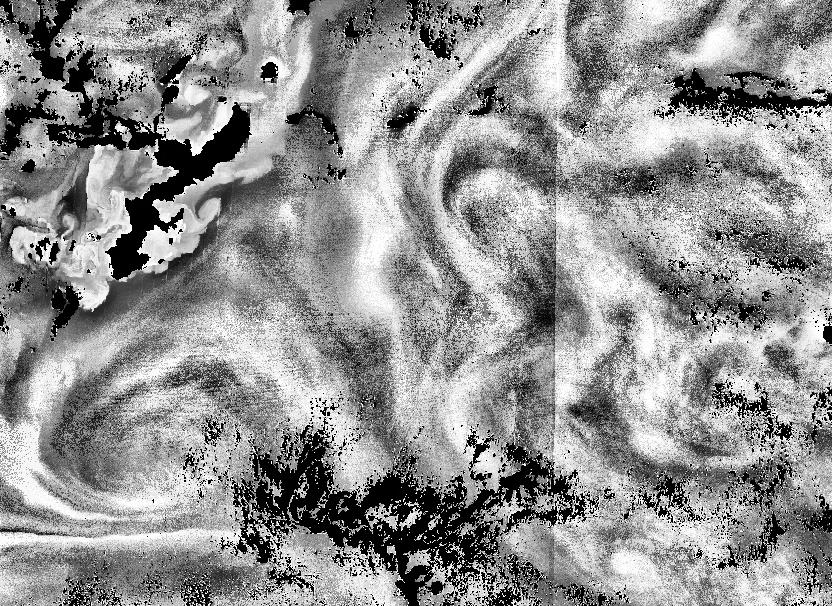CE: (55, 363, 287, 536)
